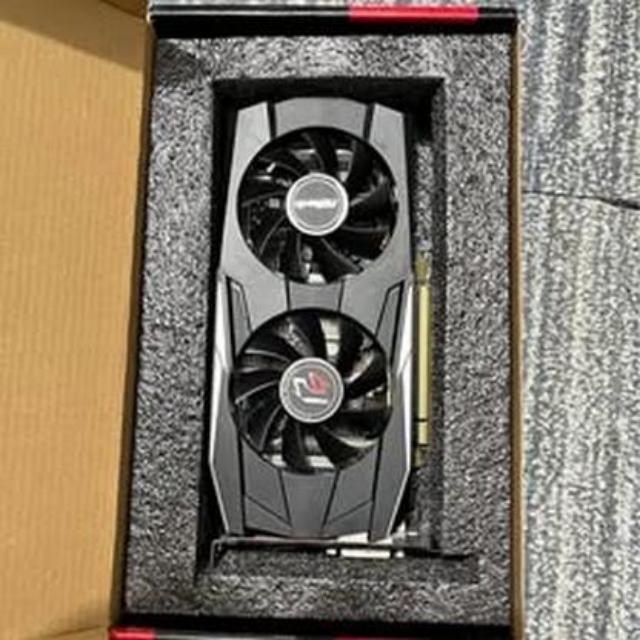GPU: (210, 88, 436, 564)
